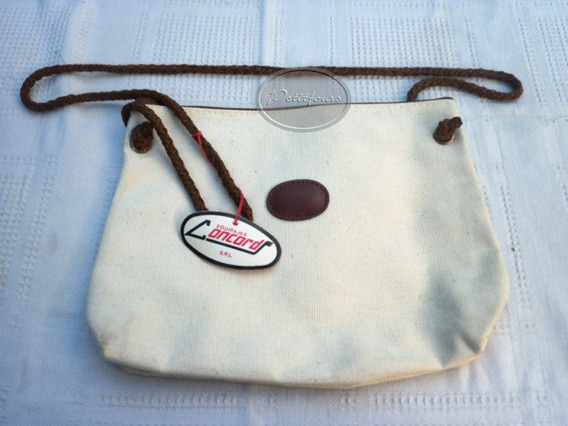cartera: (85, 91, 511, 391)
